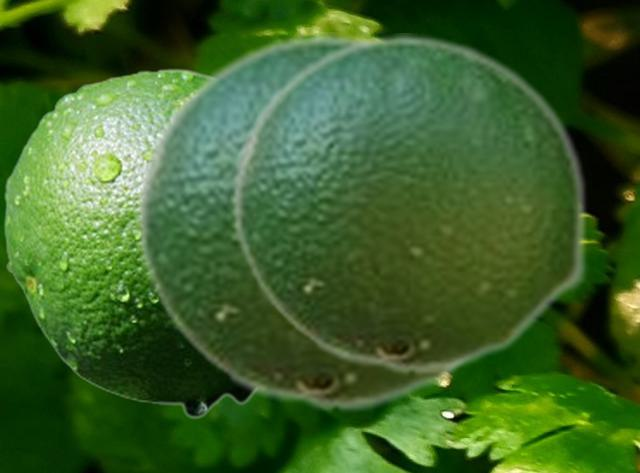dalandan: (134, 32, 469, 413), (230, 33, 588, 376), (3, 67, 255, 419)
